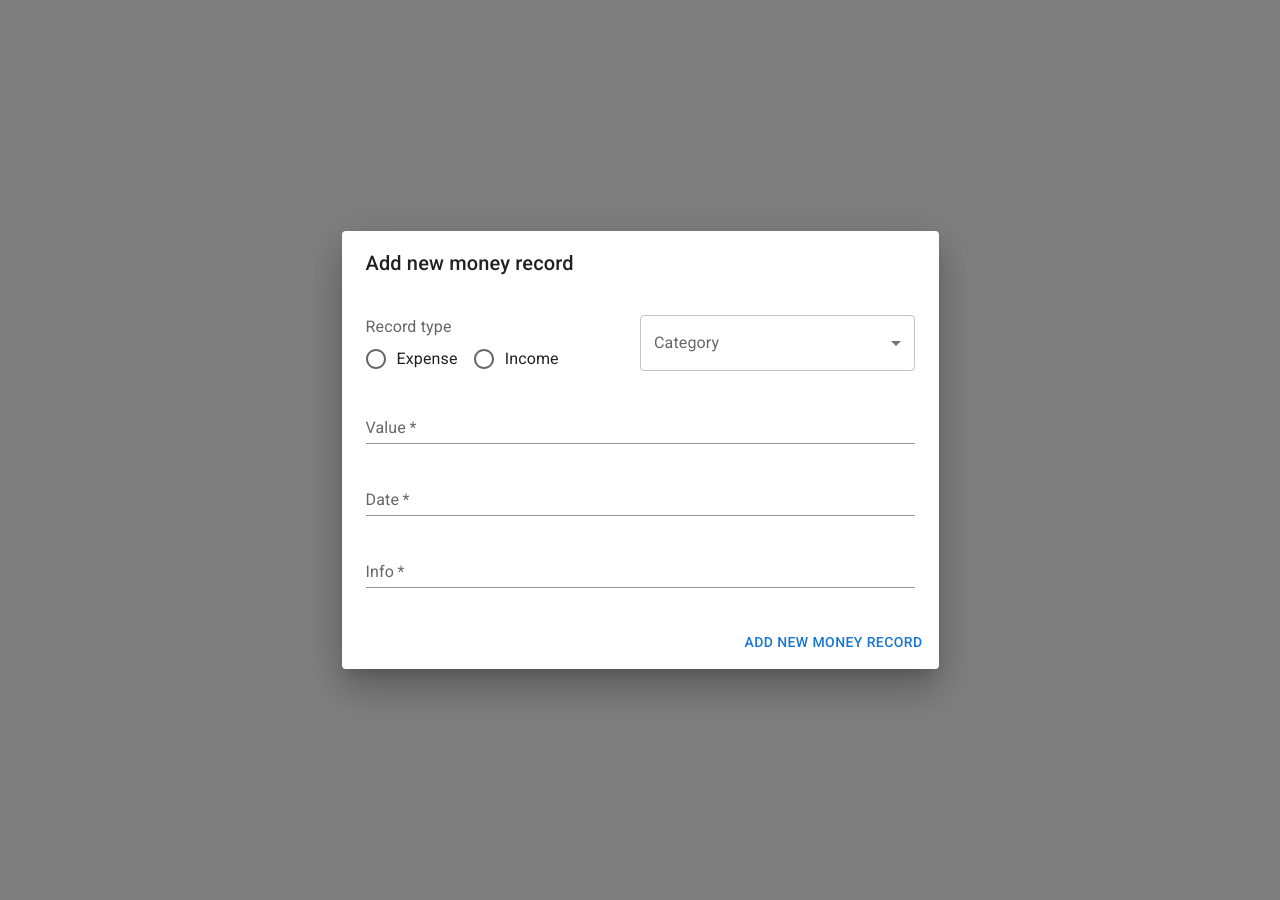
Test: MoneyRecordForm › Form Validation › shows error for negative value
Type "-10" into the field labelled "Value *" at [640, 428], box left=366, top=412, right=914, bottom=444
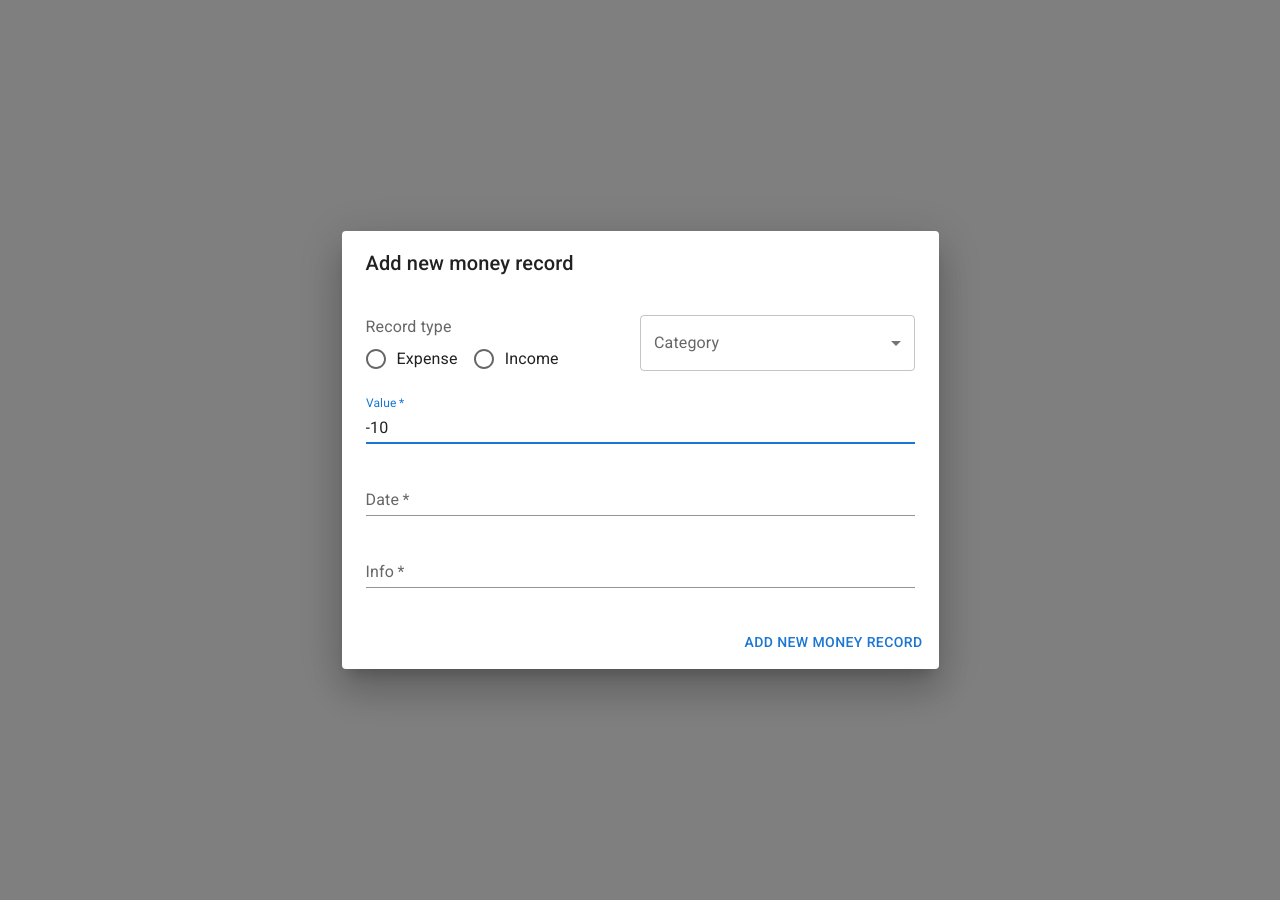
Click the button "Add new money record" at [834, 643], box left=737, top=624, right=930, bottom=661
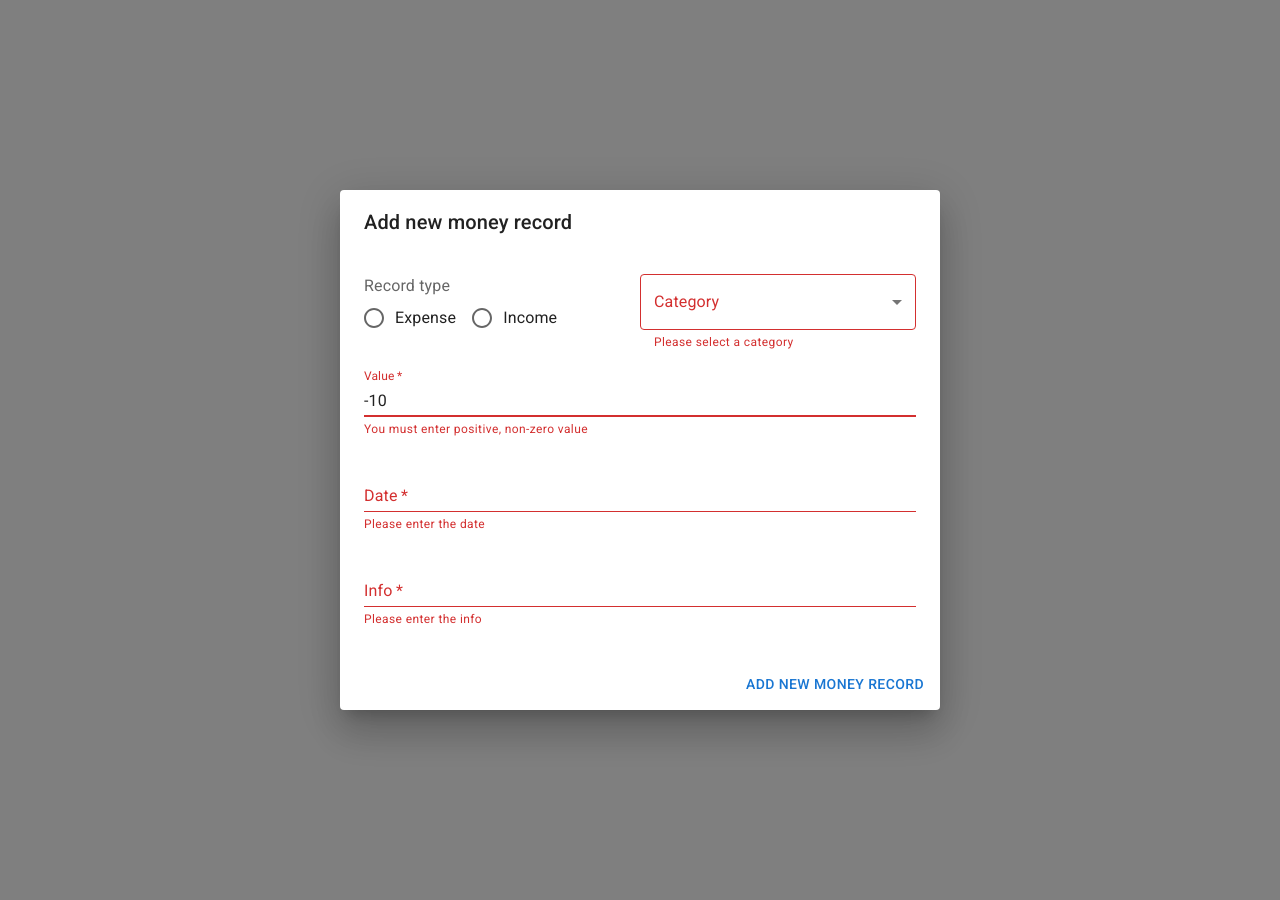
Result: the text "You must enter positive, non-zero value" is shown at left=364, top=422, right=588, bottom=436
